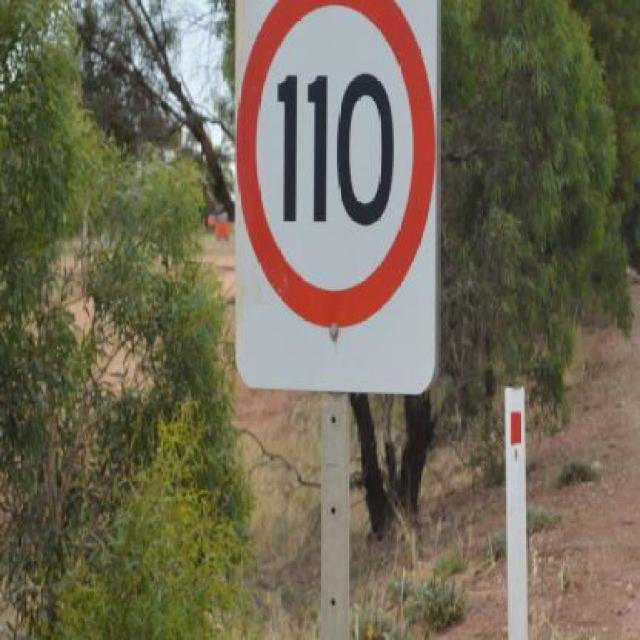speed limit 110: (236, 2, 438, 334)
